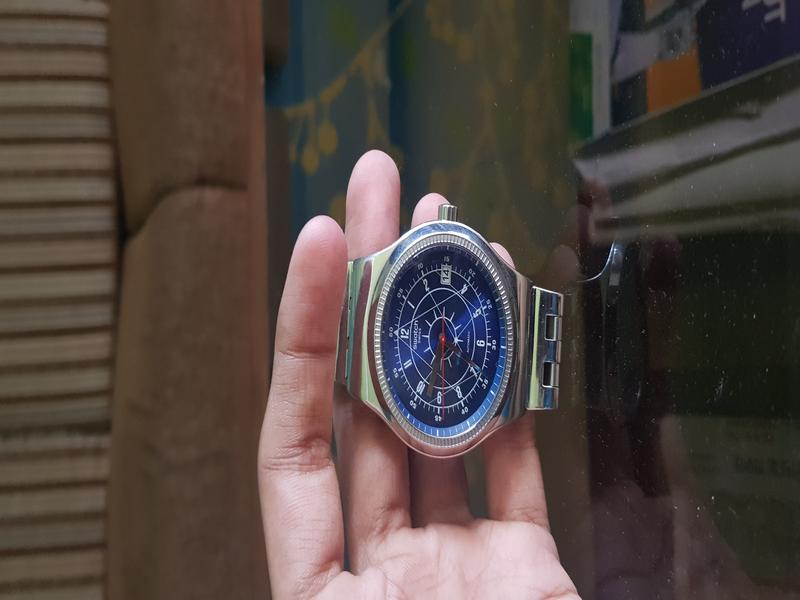watch: (268, 188, 634, 472)
